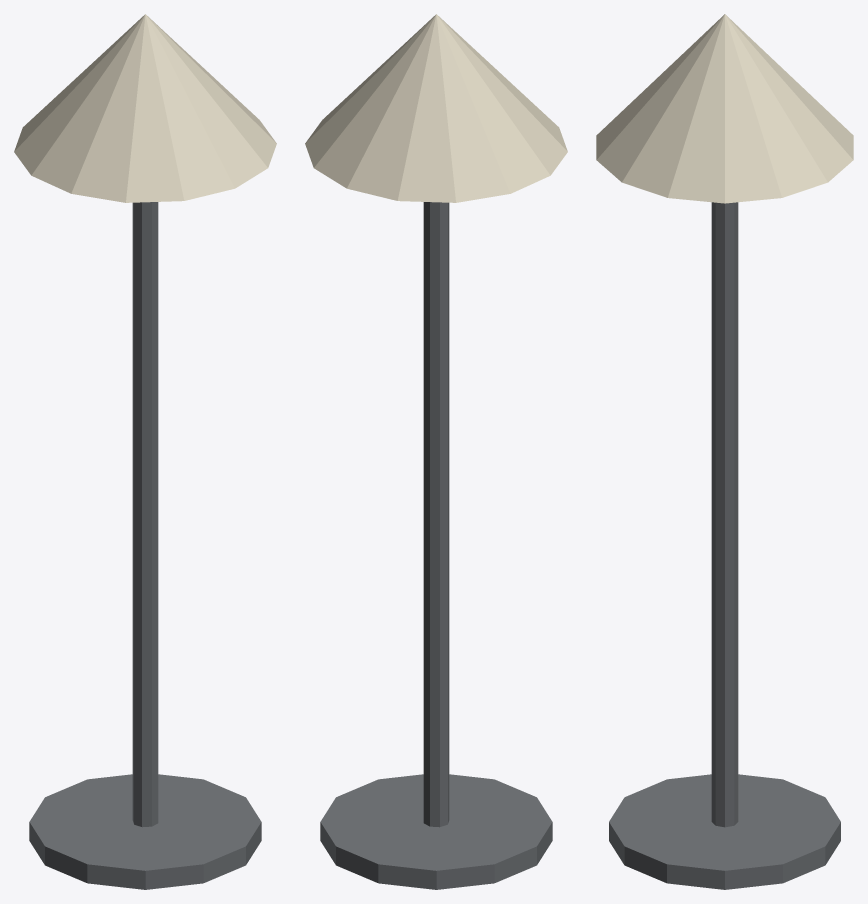
Rendered from floor_lamp_03.glb.
3 views of the same model, side by side, from view 1: azimuth 30°, elevation 25°; view 2: azimuth 150°, elevation 25°; view 3: azimuth 270°, elevation 25° (orthographic).
Parts seen in each view (by area): view 1: shade, base, stand; view 2: shade, base, stand; view 3: shade, base, stand.
Part boxes in pixels (x1,y1,x2,y2): shade: [14, 14, 276, 202]; base: [29, 774, 261, 889]; stand: [132, 202, 158, 827]; shade: [305, 14, 567, 202]; base: [320, 774, 552, 889]; stand: [423, 202, 449, 827]; shade: [596, 14, 853, 203]; base: [609, 774, 840, 889]; stand: [711, 202, 738, 827].
Size of the model in its own units: 0.5 by 1.73 by 0.4875.
